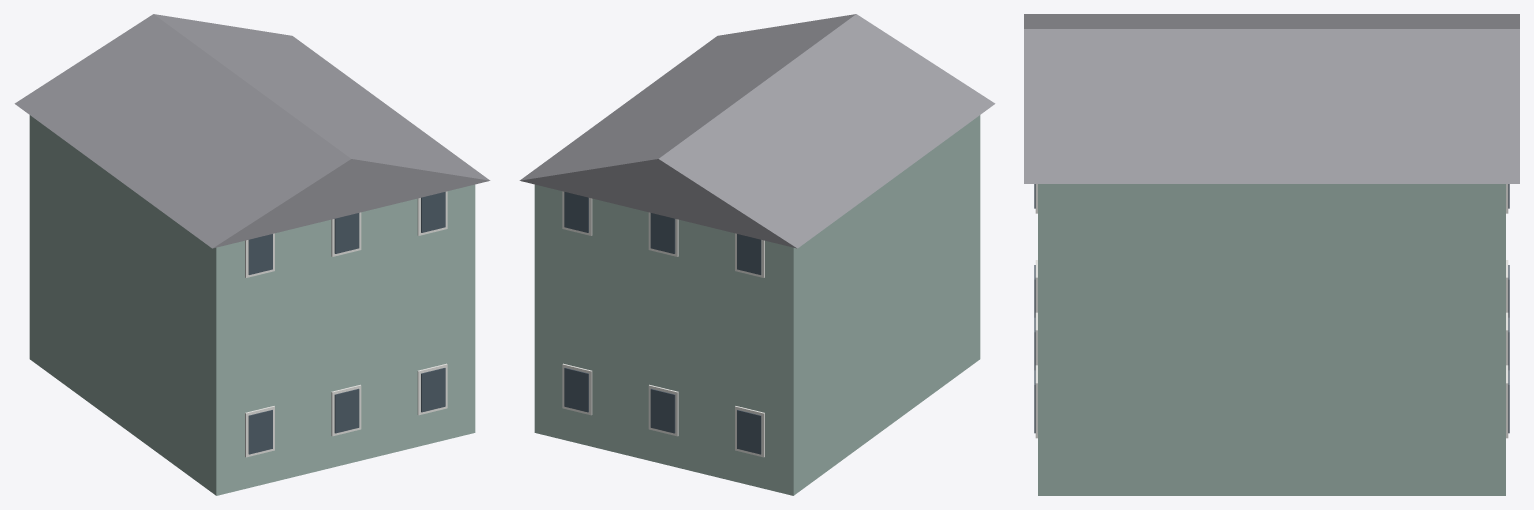
The model's file is rowhouse.glb.
The picture shows the model from 3 angles, left to right: view 1: azimuth 30°, elevation 25°; view 2: azimuth 150°, elevation 25°; view 3: azimuth 270°, elevation 25°; orthographic projection. The views are drawn at different scales.
Parts seen in each view (by area): view 1: rowhouse_body, rowhouse_roof, win_bg0_1, win_bg0_2, win_bg0_0, win_bg1_1, win_bg1_2, win_bg1_0; view 2: rowhouse_body, rowhouse_roof, win_fg0_1, win_fg0_2, win_fg0_0, win_fg1_1, win_fg1_2, win_fg1_0; view 3: rowhouse_body, rowhouse_roof.
Boxes of the visible parts, <box> form: rowhouse_body: <box>29,115,475,495</box>; rowhouse_roof: <box>14,14,490,248</box>; win_bg0_1: <box>334,388,359,433</box>; win_bg0_2: <box>421,368,445,412</box>; win_bg0_0: <box>248,410,272,454</box>; win_bg1_1: <box>334,213,359,253</box>; win_bg1_2: <box>421,192,445,232</box>; win_bg1_0: <box>248,234,272,274</box>; rowhouse_body: <box>534,115,980,495</box>; rowhouse_roof: <box>519,14,995,248</box>; win_fg0_1: <box>650,388,675,433</box>; win_fg0_2: <box>564,368,588,412</box>; win_fg0_0: <box>737,410,761,454</box>; win_fg1_1: <box>650,213,675,253</box>; win_fg1_2: <box>564,192,588,232</box>; win_fg1_0: <box>737,234,761,274</box>; rowhouse_body: <box>1038,184,1505,495</box>; rowhouse_roof: <box>1024,14,1519,183</box>.
Bounding box in the file's own units: 8.6 × 9.15 × 10.6.
